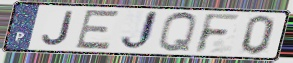0: (239, 14, 277, 56)
E: (73, 9, 122, 51)
F: (193, 12, 243, 55)
J: (118, 9, 161, 53), (40, 10, 76, 47)
Q: (156, 11, 199, 54)
